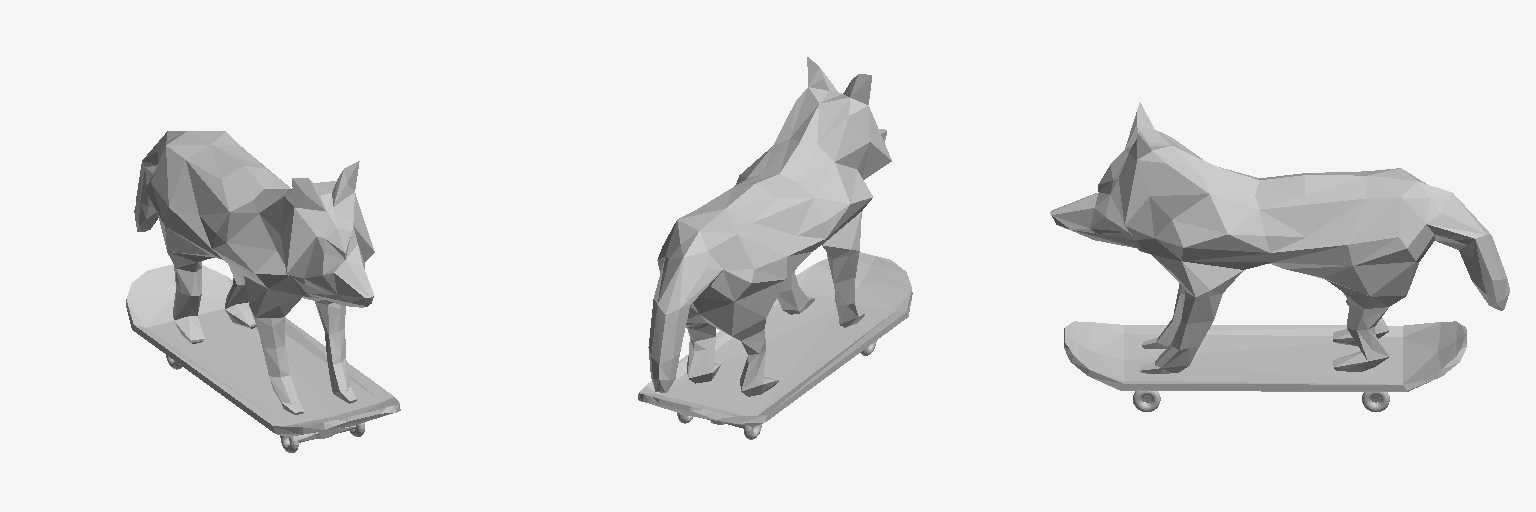
Rendered from Fuchs32.obj.
The picture shows the model from 3 angles: view 1: azimuth 30°, elevation 25°; view 2: azimuth 150°, elevation 25°; view 3: azimuth 270°, elevation 25°; orthographic projection.
Bounding box in the file's own units: 3.58 × 7.87 × 11.77.